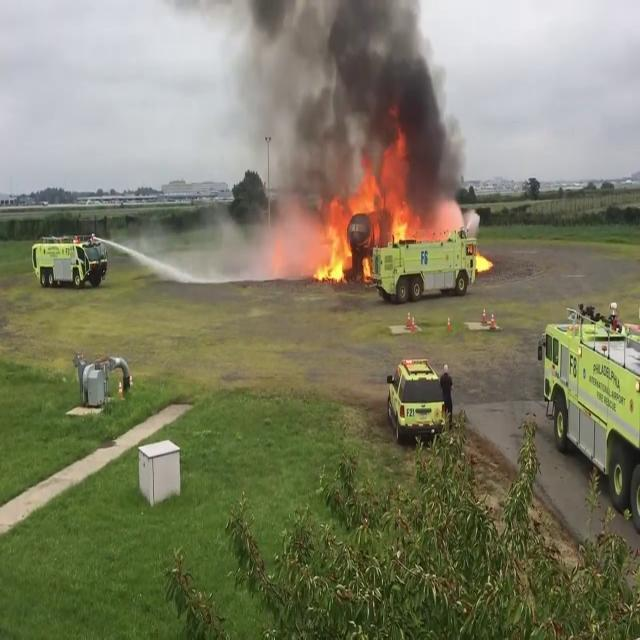Fire: (298, 148, 468, 290), (311, 208, 354, 284)
Smoke: (226, 0, 470, 200)
